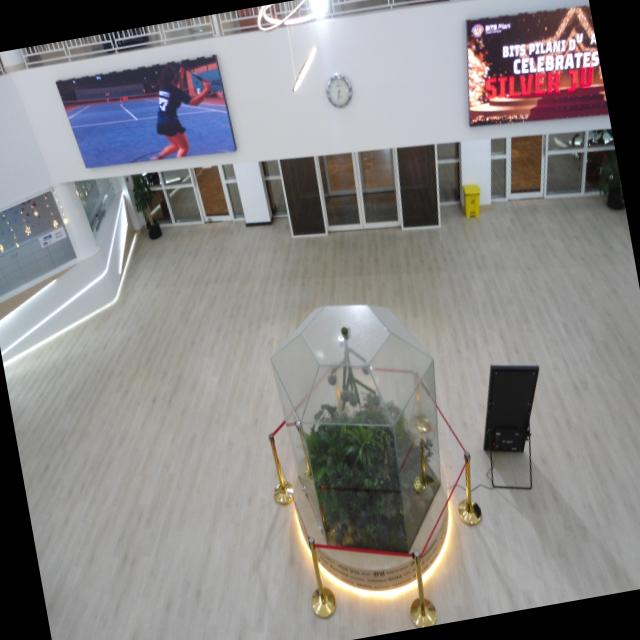board: (52, 51, 240, 181), (458, 0, 607, 128)
door: (275, 132, 448, 252), (132, 152, 249, 241), (500, 122, 558, 210)
dustbin: (458, 180, 486, 222)
obstacle: (244, 274, 502, 640)
railing: (18, 0, 584, 80), (0, 50, 13, 85)
